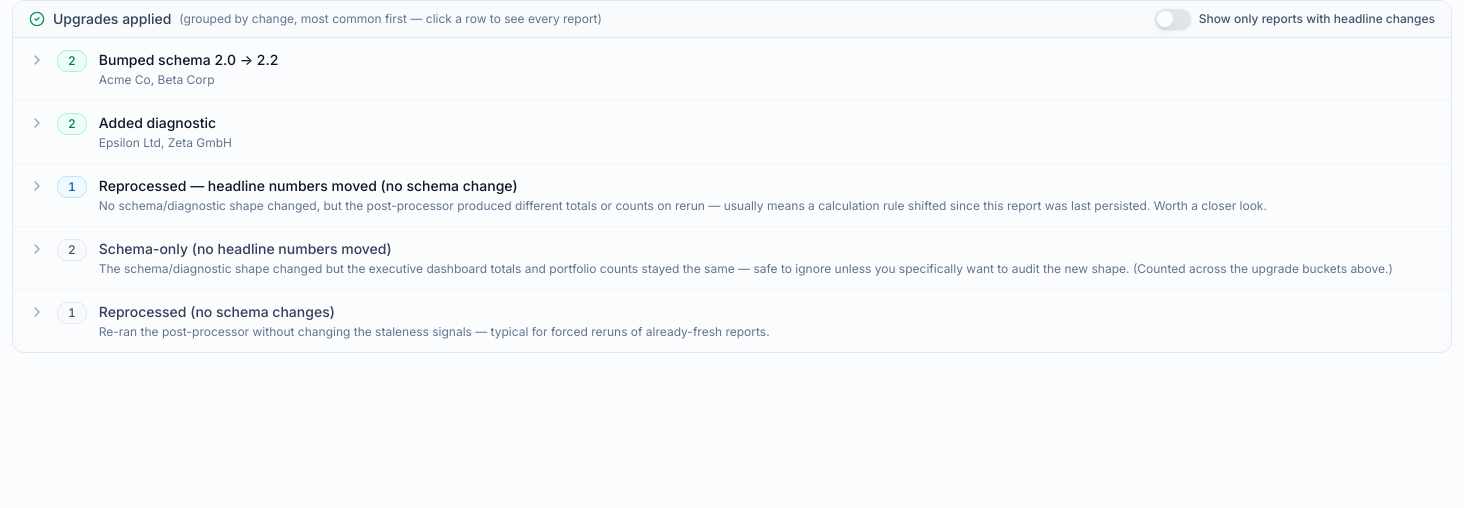
UpgradesAppliedPanel — Copy IDs buttons › reveals button-copy-ids-upgrade-<code> when an upgrade bucket expands
Click the button "2 Bumped schema 2.0 → 2.2 Acme Co, Beta Corp": (189, 60) [13,38,1451,100]
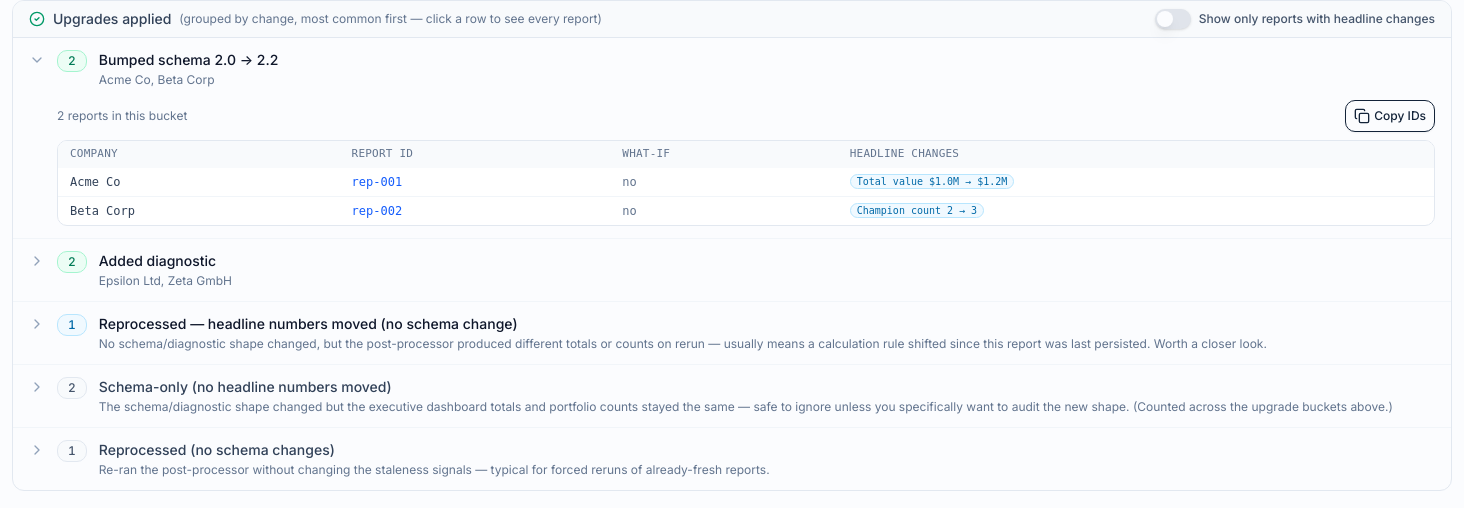
Check: the button "Copy IDs" is shown, box [1345,100,1435,132]
